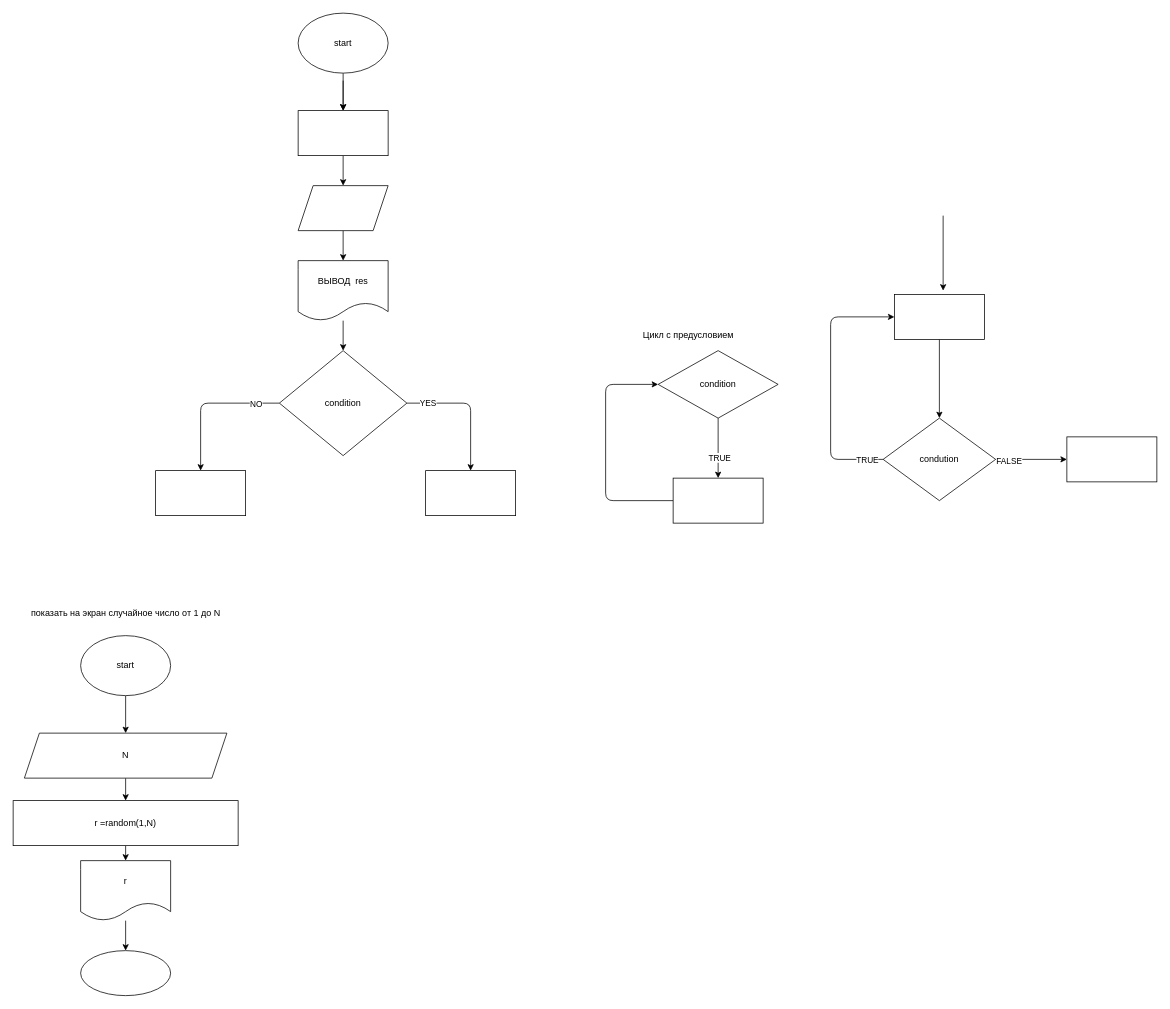
The diagram is 1170 pixels wide and 1009 high, and some of its shapes have lost their labels. The centre of each missing label's shape, as x and y in pixels:
"count = 0 res = 1*sqrt(2)" belongs at [342,133].
"END" belongs at [125,973].
"ВВОД count" belongs at [342,208].
"цикл с постусловием" belongs at [939,316].
